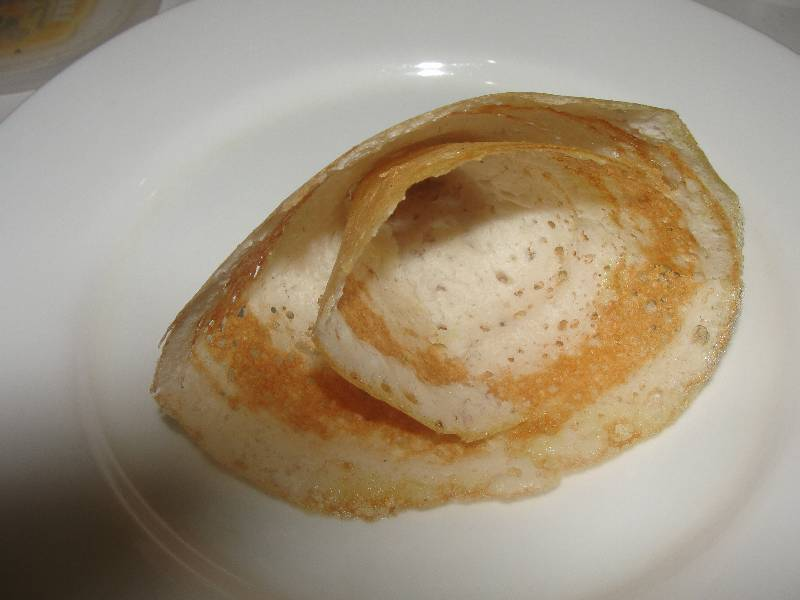dosa: (142, 76, 754, 524)
